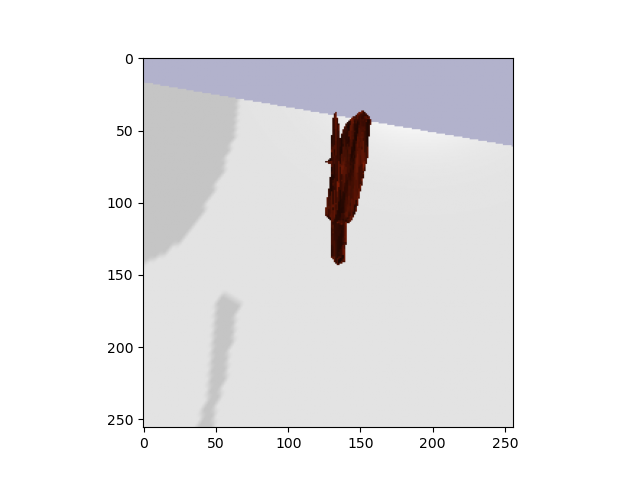v249b387_107: (314, 108, 382, 271)
